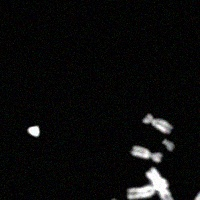chromosome: (145, 166, 174, 200), (125, 178, 169, 199), (142, 111, 172, 135), (129, 145, 162, 162), (160, 137, 176, 151), (192, 181, 200, 200), (106, 197, 136, 200)
